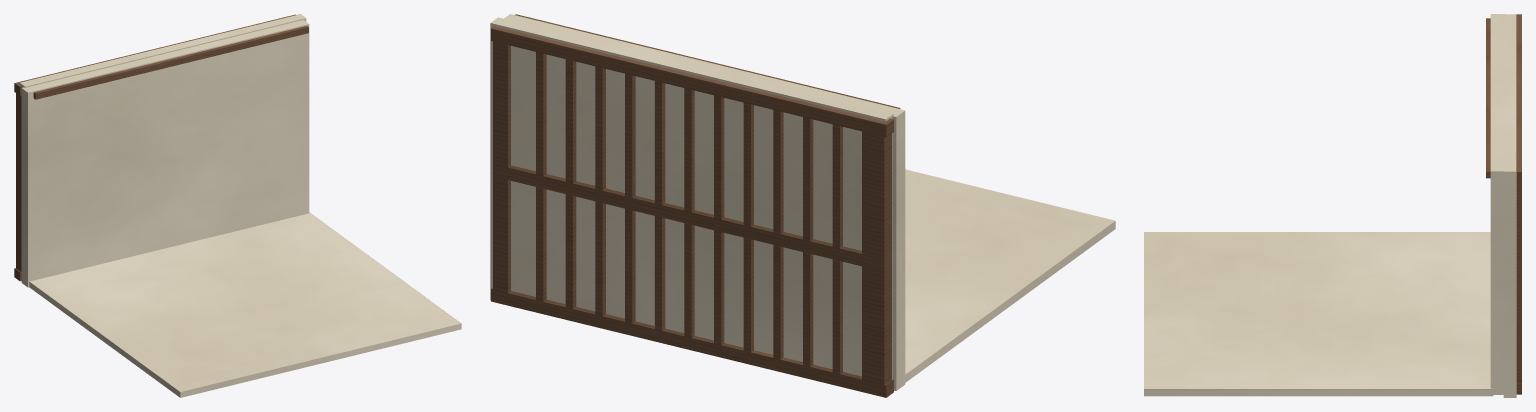
Rendered from med_wall_b.glb.
3 renders of one model, left to right at view 1: azimuth 30°, elevation 25°; view 2: azimuth 150°, elevation 25°; view 3: azimuth 270°, elevation 25°, orthographic. The views are drawn at different scales.
Parts seen in each view (by area): view 1: med_wall_b; view 2: med_wall_b; view 3: med_wall_b.
Part boxes in pixels (bbox=[...]): med_wall_b: bbox=[14, 14, 461, 397]; med_wall_b: bbox=[490, 14, 1115, 397]; med_wall_b: bbox=[1144, 14, 1521, 397].
Bounding box in the file's own units: 4.04 × 2.68 × 4.06.
1 material, 1 textured.
